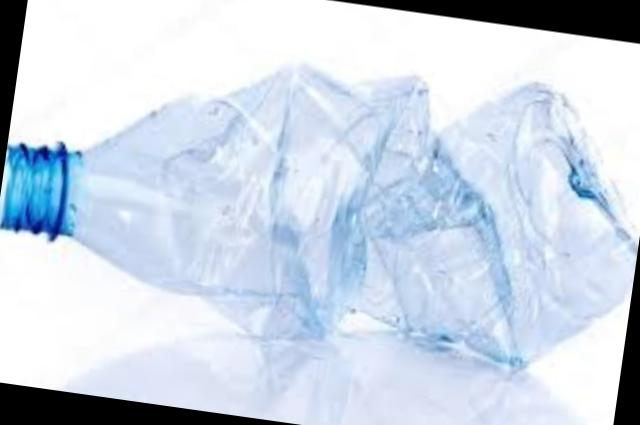plastic: (59, 63, 638, 361)
